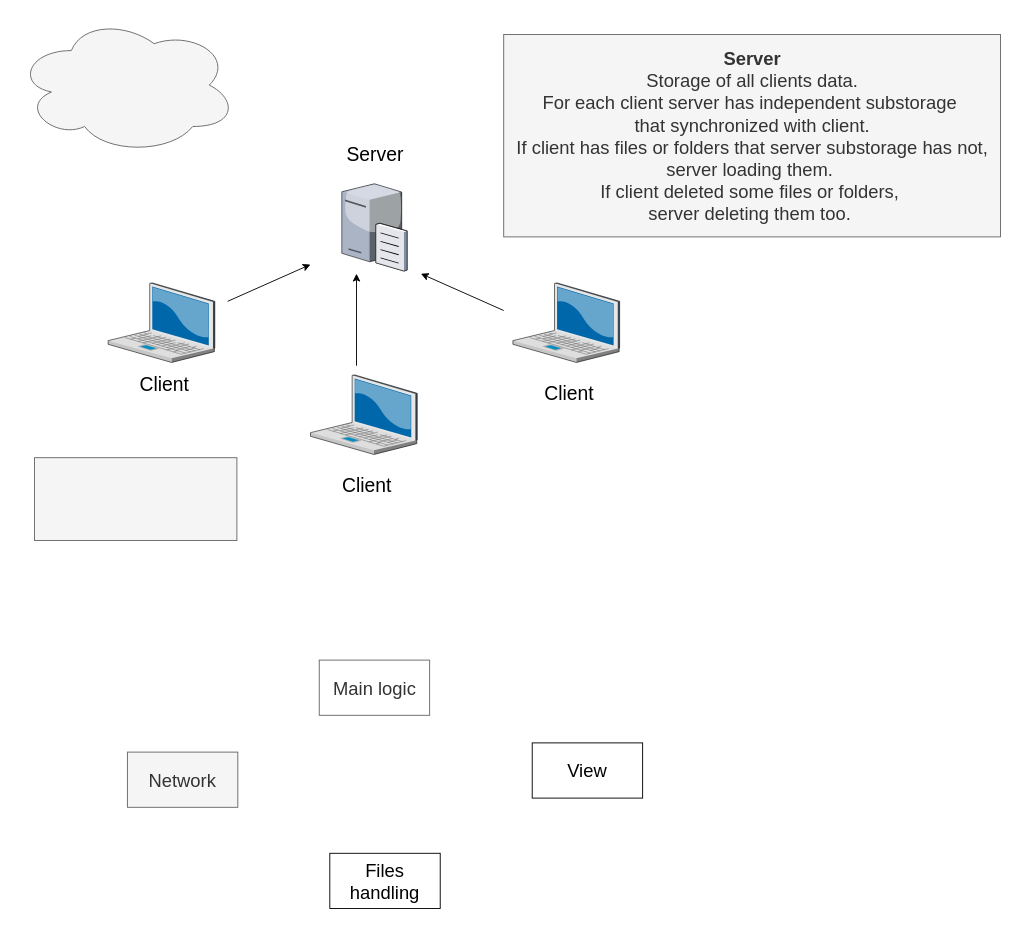
Image size: 1017x925. Some labels were removed from this diagram. The shapes that lost their labels are listed below. From the top down, each one's box as (x1, y1, x2, y2) in pixels, then its label:
(15, 15, 237, 154): Cloud
(34, 457, 237, 540): Client Storage of user data
